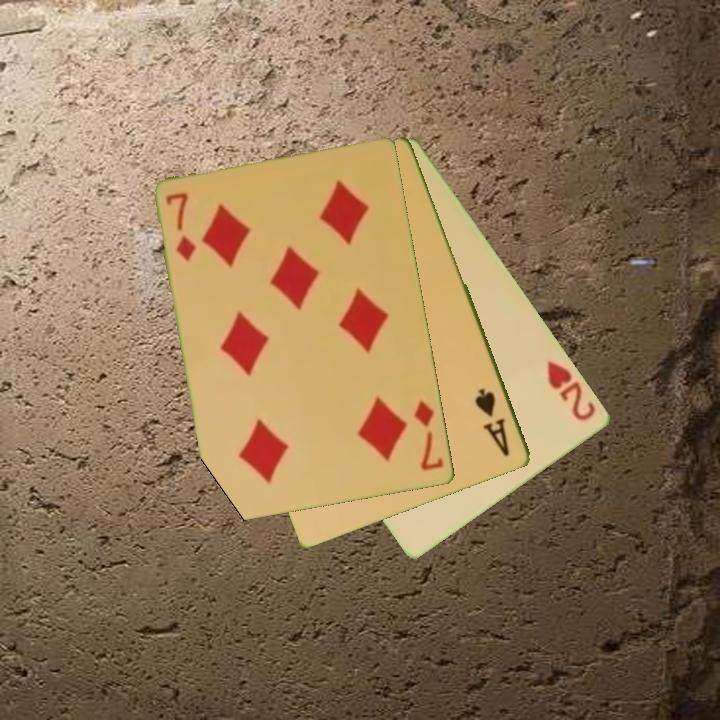2h: (544, 357, 599, 424)
7d: (411, 397, 447, 474), (163, 189, 199, 265)
As: (471, 385, 513, 460)
